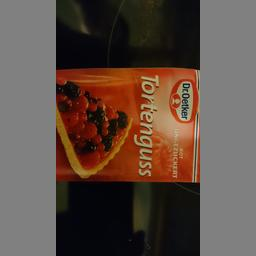cake: (56, 66, 202, 184)
